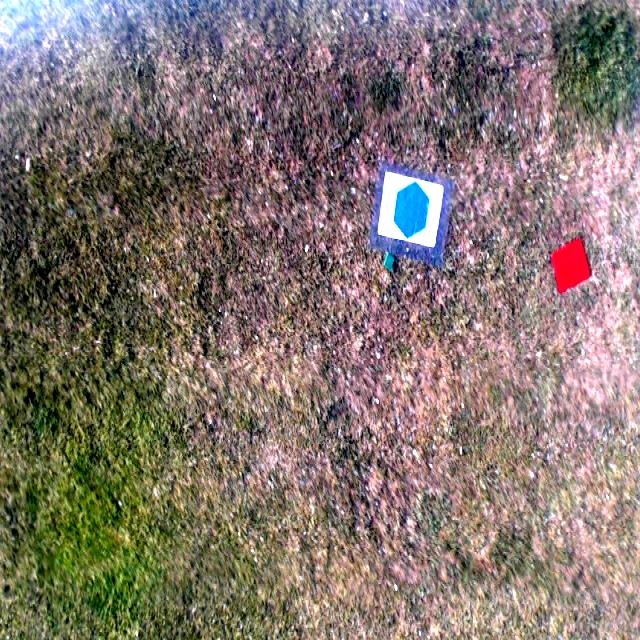blue_hexagon: (392, 179, 433, 244)
red_square: (551, 236, 592, 294)
